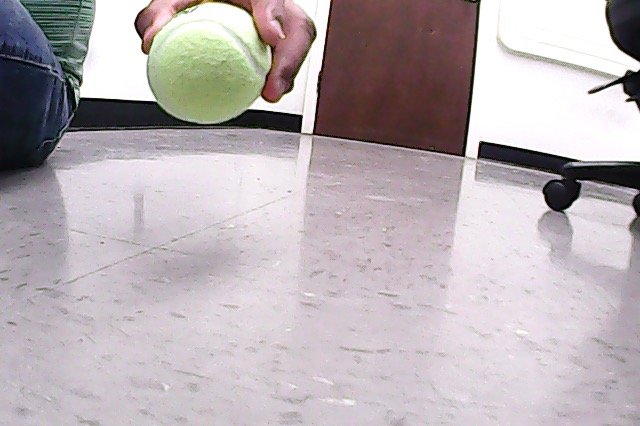ball: (148, 4, 272, 124)
